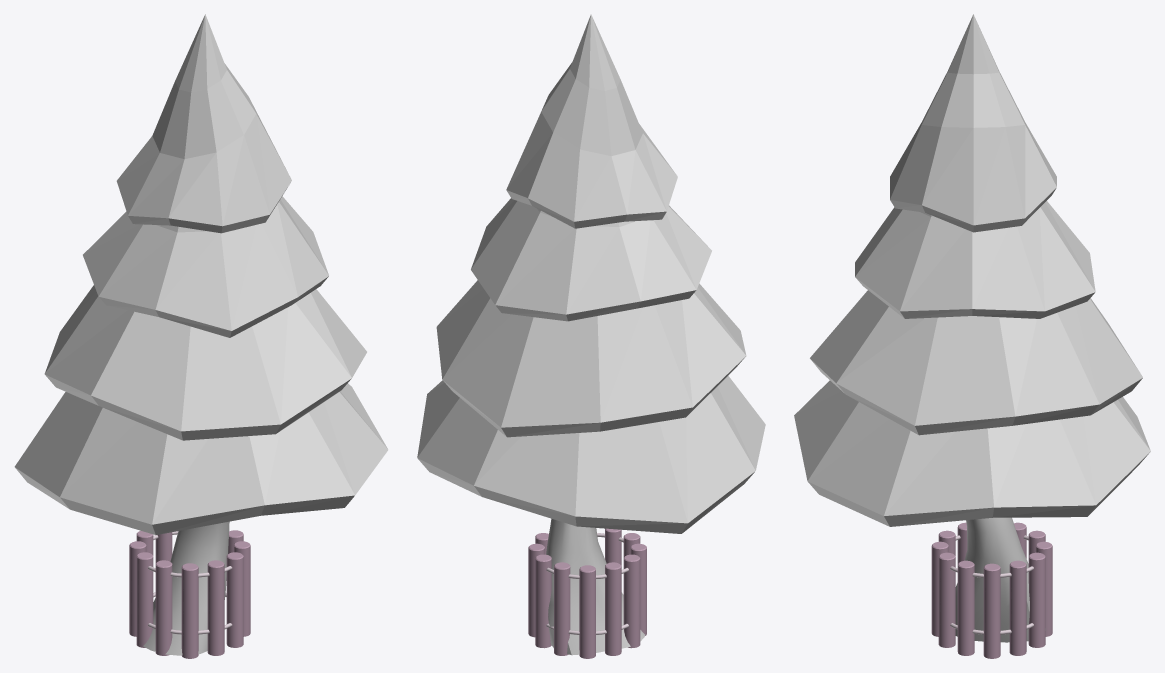
The picture shows the model from 3 angles, left to right: view 1: azimuth 30°, elevation 25°; view 2: azimuth 150°, elevation 25°; view 3: azimuth 270°, elevation 25°; orthographic projection. The views are drawn at different scales.
Parts seen in each view (by area): view 1: 树叶, 克隆, 树干; view 2: 树叶, 克隆, 树干; view 3: 树叶, 克隆, 树干.
Part boxes in pixels (box(x1,y1,x2,y2)): 树叶: box(14, 14, 388, 534); 克隆: box(129, 530, 250, 658); 树干: box(143, 521, 229, 655); 树叶: box(417, 14, 765, 533); 克隆: box(528, 528, 646, 658); 树干: box(546, 518, 644, 655); 树叶: box(794, 14, 1150, 526); 克隆: box(931, 522, 1052, 658); 树干: box(955, 517, 1045, 642).
Bounding box in the file's own units: 0.9046 × 1.72 × 0.8939.
